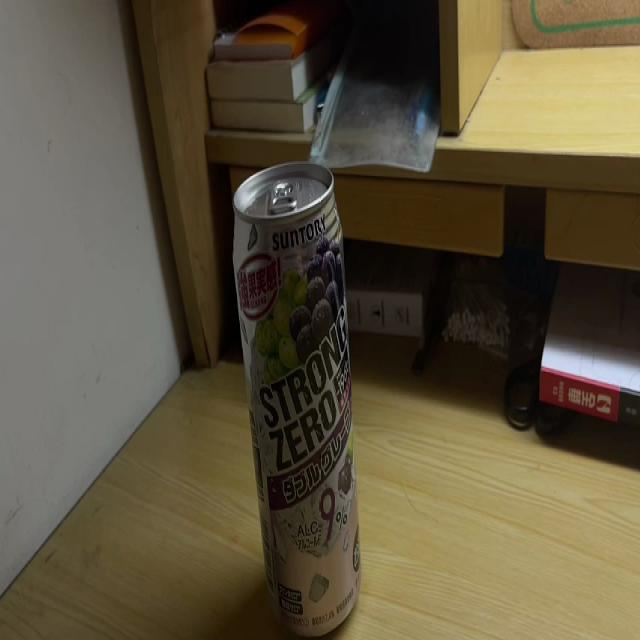Liquor: (234, 163, 365, 632)
